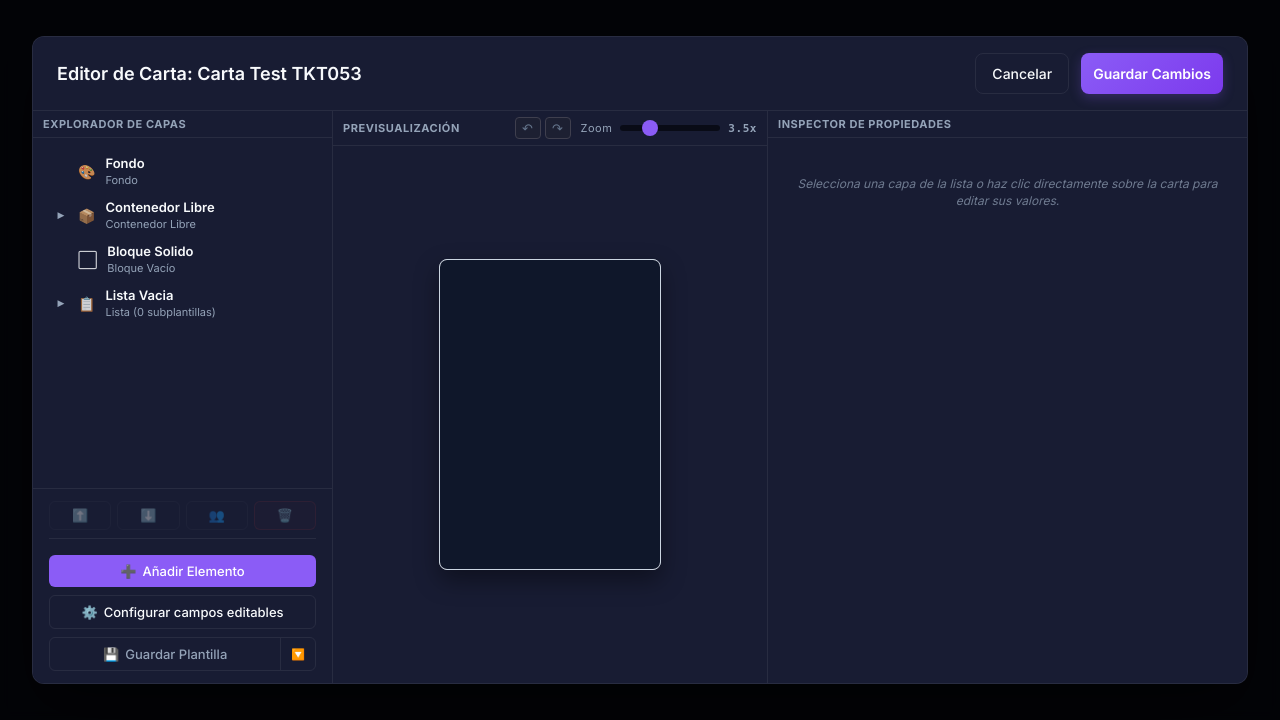
TKT-053: Integración de Dimensiones Automáticas y Listas en EditCardModal › muestra Ancho Auto y Alto Auto para listas (tipo 'list')
Click the text "Lista Vacia".
click(139, 295)  # box [106,287,173,303]
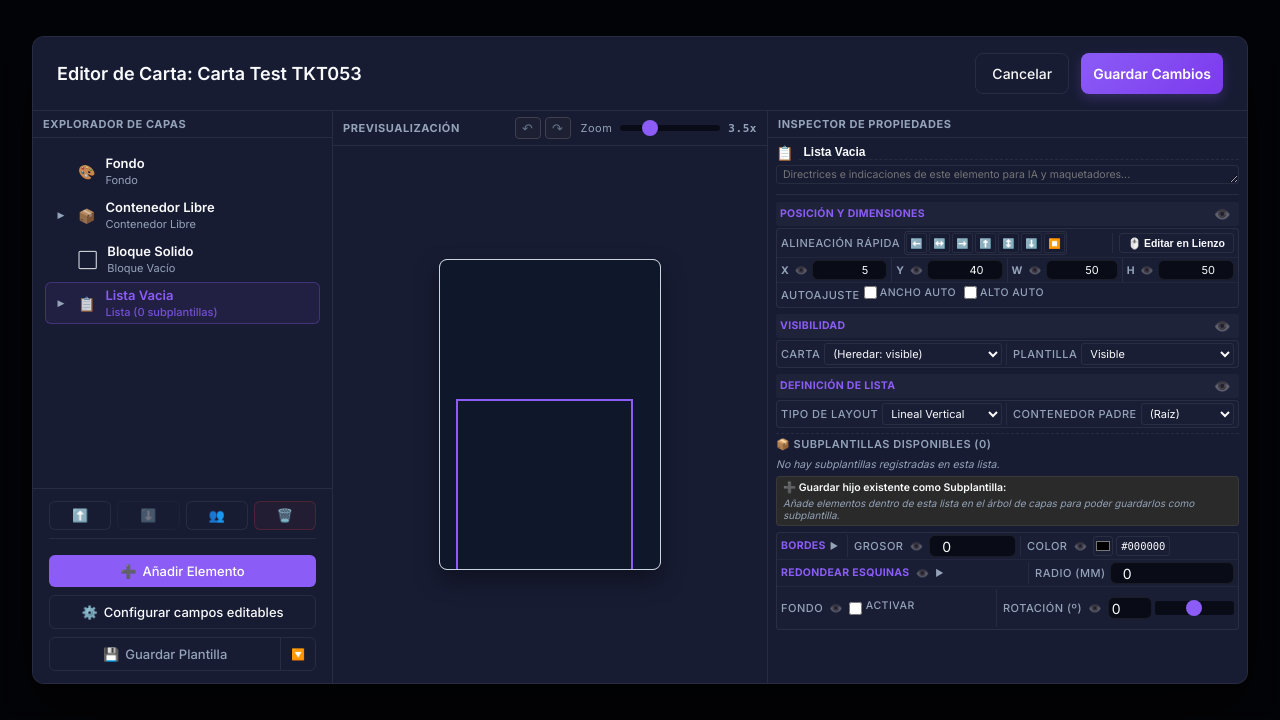
expect the text "Ancho Auto" is shown: met, box [864,286,956,299]
expect the text "Alto Auto" is shown: met, box [964,286,1044,299]
